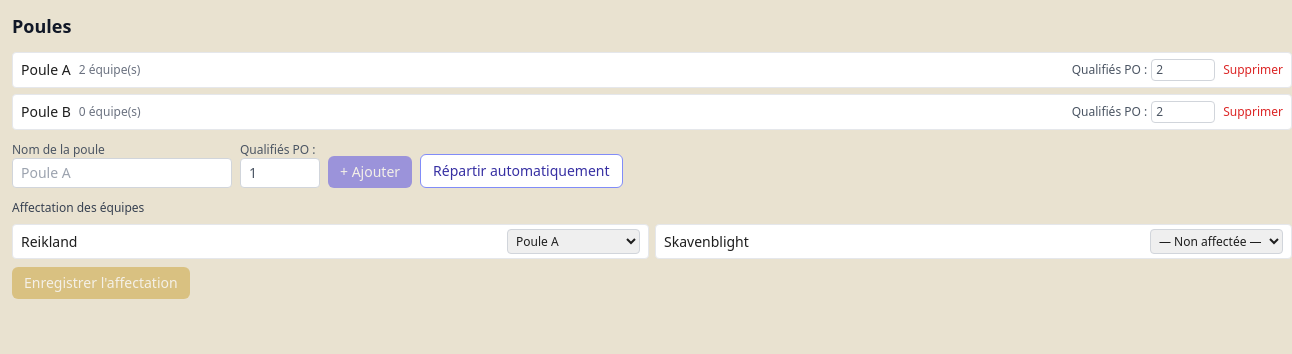
Test: CupPoolsManagerPanel › remonte l'erreur d'une mutation refusée
Check: the button with test id "cup-pool-create" is shown, box [328,156,412,188]
Type "Poule C" into the field with test id "cup-pool-name".
click(122, 173); type("Poule C")  # box [12,158,232,188]
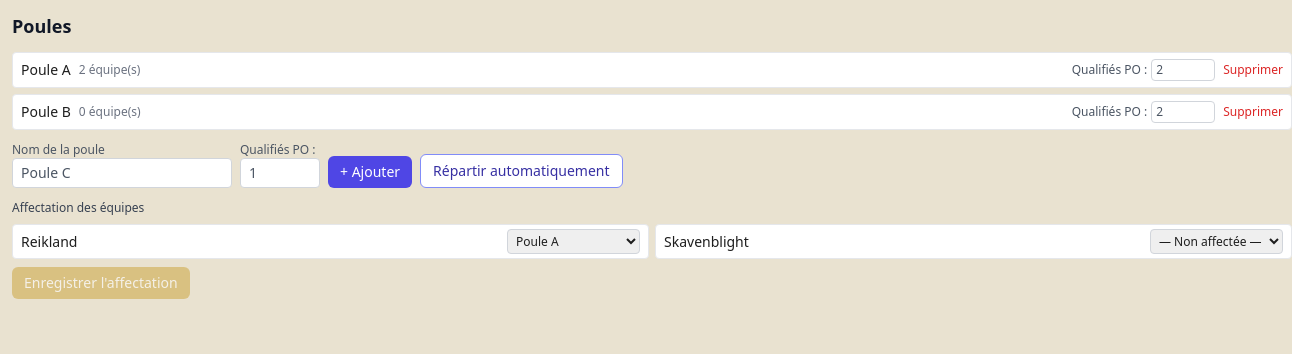
Click the button with test id "cup-pool-create".
click(370, 172)  # box [328,156,412,188]
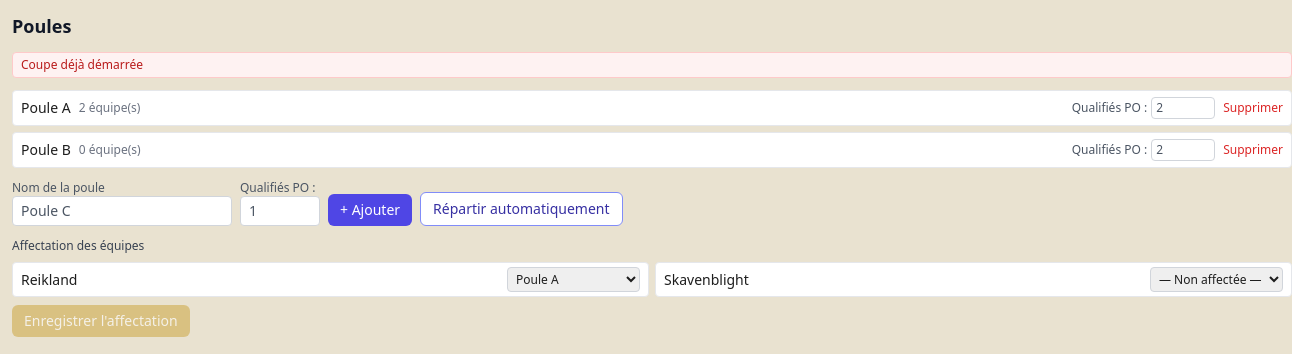
Check: the text with test id "cup-pools-error" reads "Coupe déjà démarrée", box [21,56,143,73]
